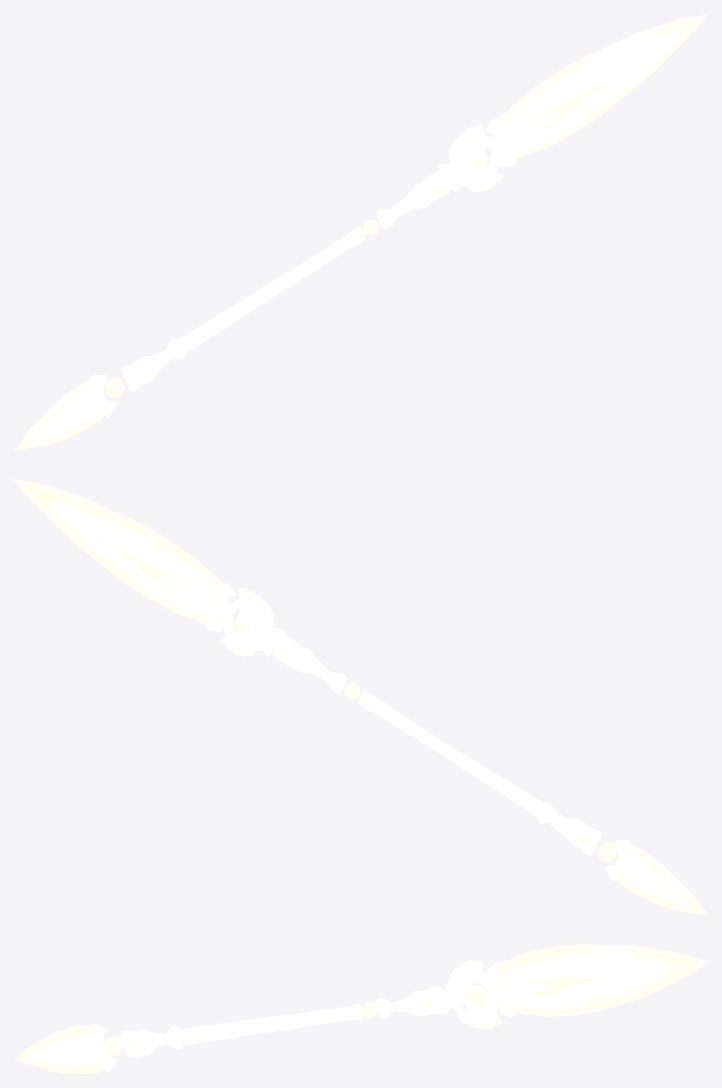
Rendered from wep_spear3.glb.
3 renders of one model, top to bottom at view 1: azimuth 30°, elevation 25°; view 2: azimuth 150°, elevation 25°; view 3: azimuth 330°, elevation 25°, orthographic.
Parts seen in each view (by area): view 1: LanceAttach__0; view 2: LanceAttach__0; view 3: LanceAttach__0.
Part boxes in pixels (left/top/right/bottom): LanceAttach__0: left=14, top=14, right=707, bottom=450; LanceAttach__0: left=14, top=479, right=707, bottom=915; LanceAttach__0: left=14, top=944, right=707, bottom=1073.
Bounding box in the file's own units: 2.52 × 0.9428 × 0.1116.
Materials: 1 (1 with a texture image).
